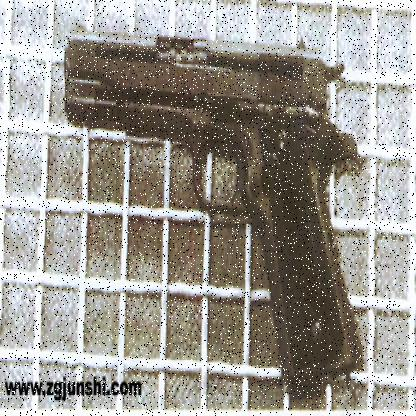pistol: (62, 24, 363, 386)
